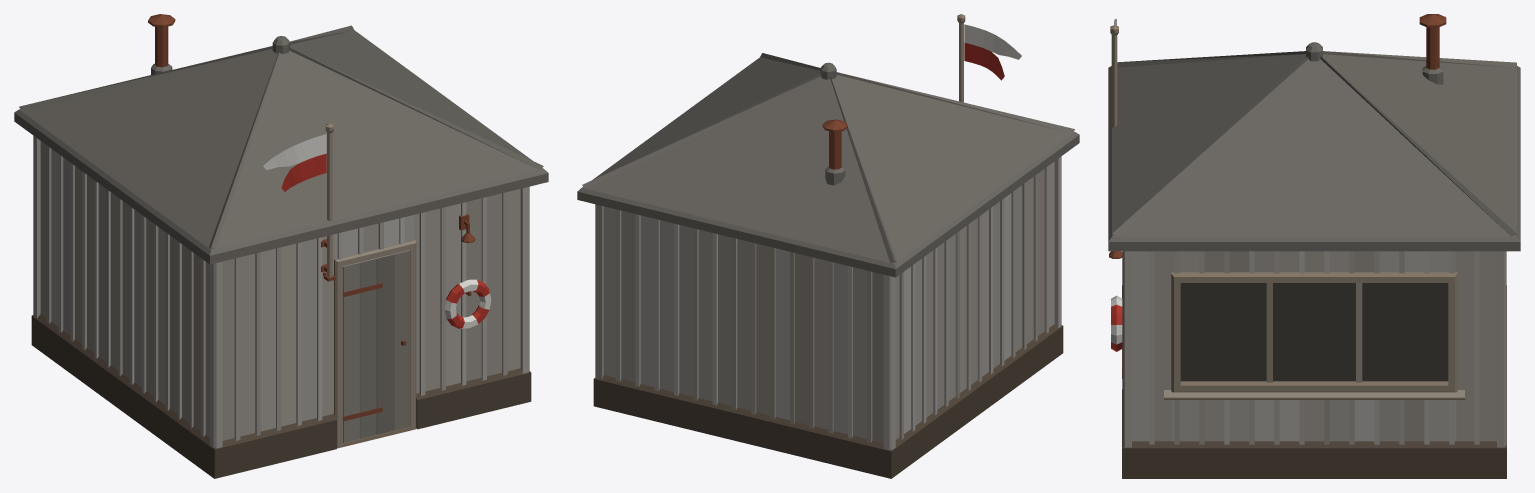
Rendered from harbour-master-s-hut-226f34.glb.
3 views of the same model, side by side, from view 1: azimuth 30°, elevation 25°; view 2: azimuth 150°, elevation 25°; view 3: azimuth 270°, elevation 25° (orthographic). The views are drawn at different scales.
Visible parts, largest first — view 1: hut, door-leaf, flag-cloth, lifebuoy-ring; view 2: hut, flag-cloth; view 3: hut, lifebuoy-ring.
Boxes of the visible parts, bbox=[...] form: hut: bbox=[14, 14, 548, 478]; door-leaf: bbox=[343, 250, 410, 442]; flag-cloth: bbox=[263, 134, 326, 191]; lifebuoy-ring: bbox=[444, 279, 491, 328]; hut: bbox=[577, 14, 1079, 478]; flag-cloth: bbox=[964, 24, 1021, 80]; hut: bbox=[1108, 14, 1520, 478]; lifebuoy-ring: bbox=[1111, 295, 1122, 351].
Bounding box in the file's own units: 4 × 3.79 × 4.
